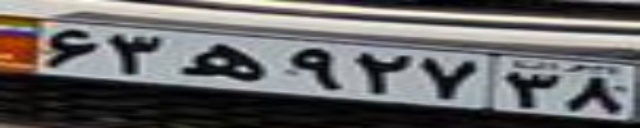2: (354, 52, 411, 94)
3: (106, 34, 161, 75), (502, 71, 558, 109)
6: (41, 28, 99, 68)
7: (418, 57, 477, 100)
8: (564, 76, 620, 115)
9: (289, 48, 337, 89)
he: (177, 42, 264, 82)
